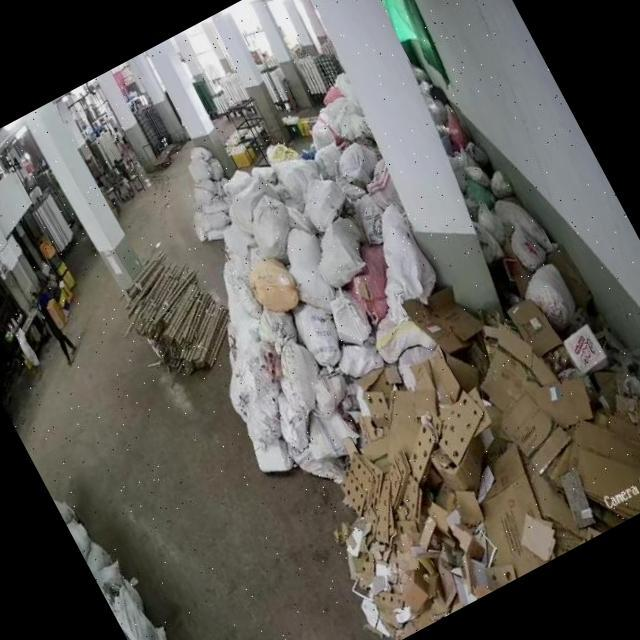person: (28, 287, 76, 360)
